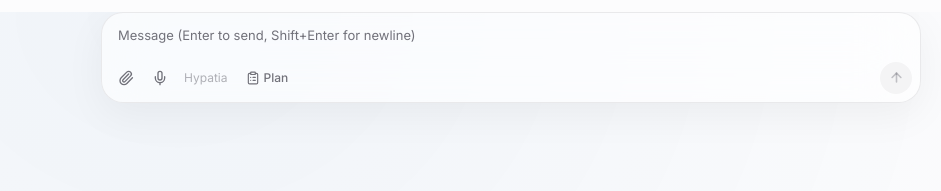
Scenario: MessageInput file picker › removes file chip on remove button click
The image size is (941, 191).
Click the button named "Attach files" at (126, 78), box [110,62,142,94]
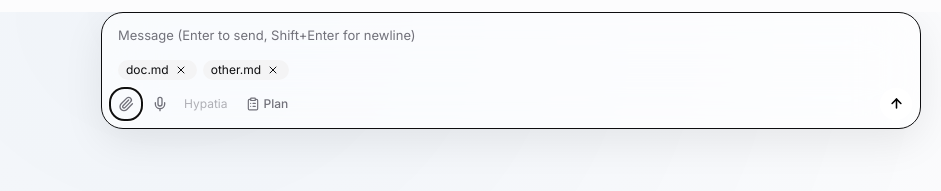
Expected: the text "doc.md" is shown, [126,62,169,78]
Click remove on first chip
Click the button named "remove" at (181, 70), box [173,62,189,78]
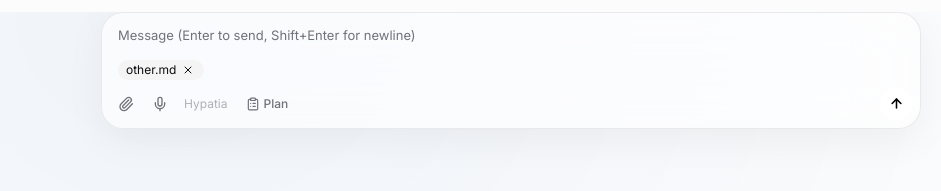
Expected: the text "other.md" is shown, [126,62,176,78]
Expected: the text "doc.md" is gone
